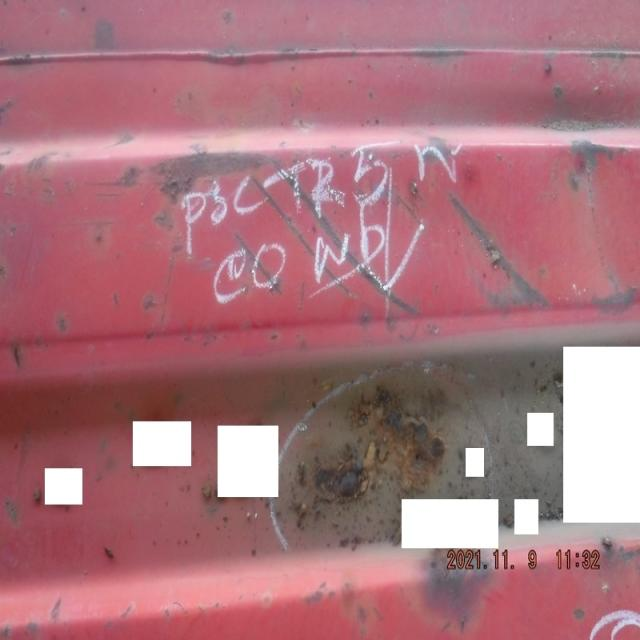rust: (354, 386, 447, 496), (313, 462, 373, 505)
